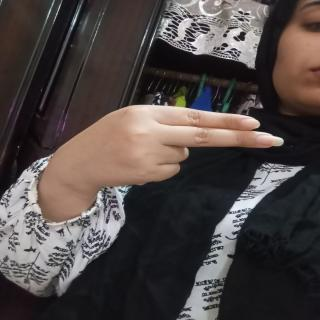AYN: (36, 92, 302, 219)
